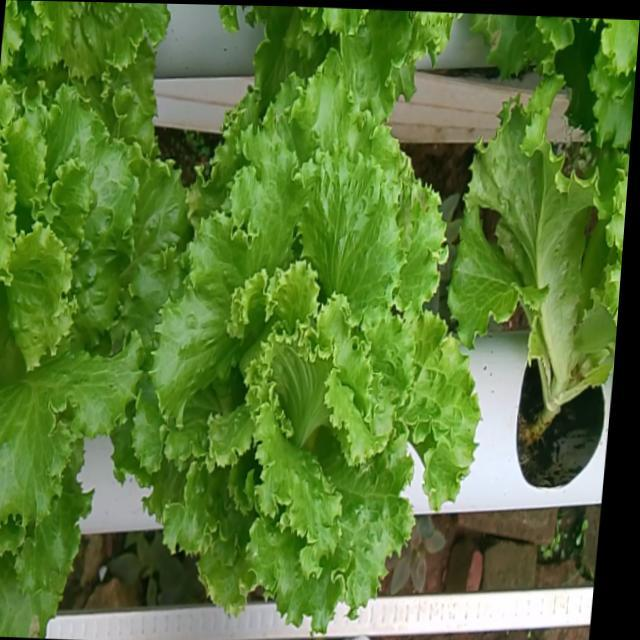Mature: (123, 84, 470, 639), (0, 95, 179, 545)
